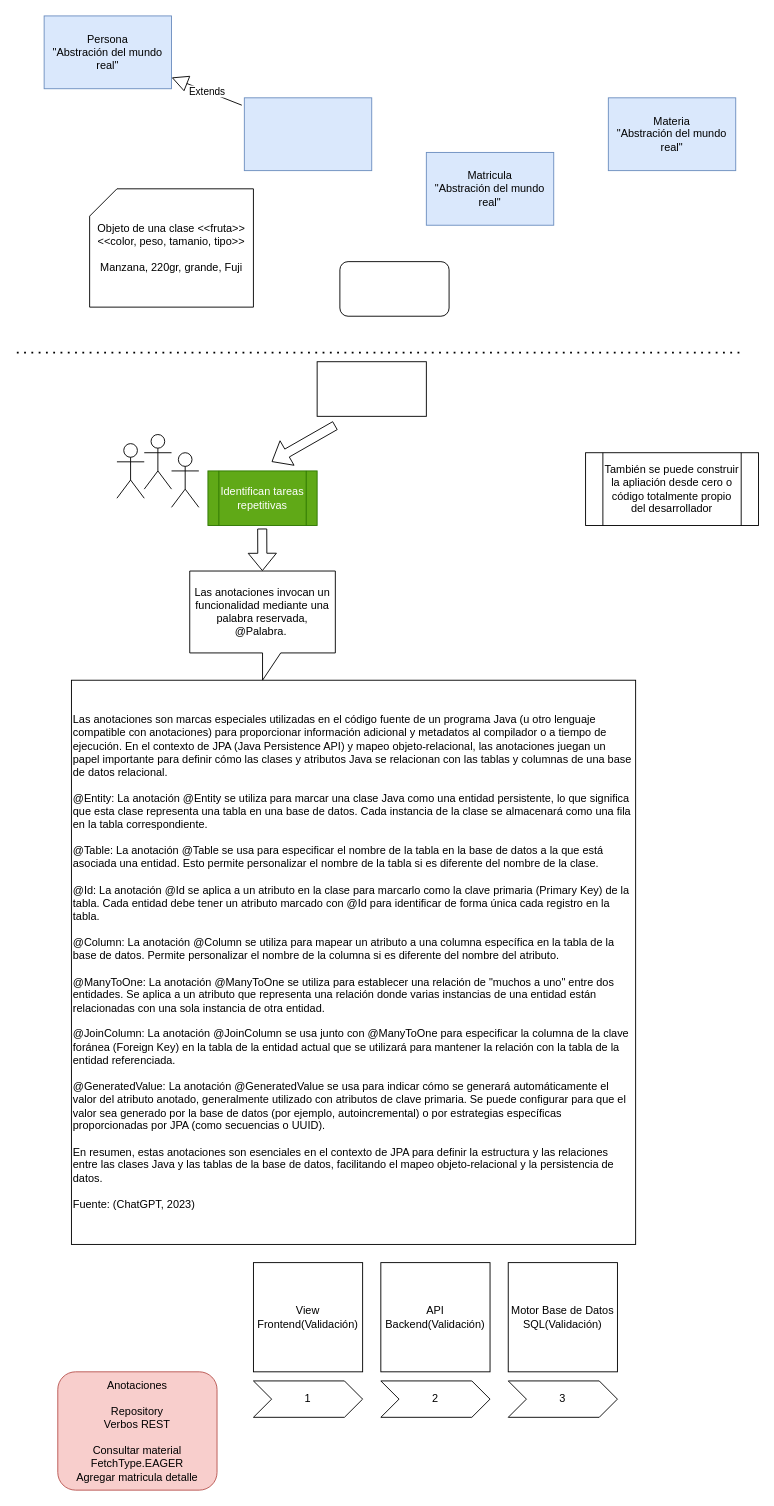
This 774x1506 diagram has some shape labels left out. The centre of each missing label's shape, as x and y in pixels:
<<agregación>> <<composición>>: point (394, 288)
Anotaciones JAVA: point (371, 388)
Estudiante "Abstración del mundo real": point (307, 134)
